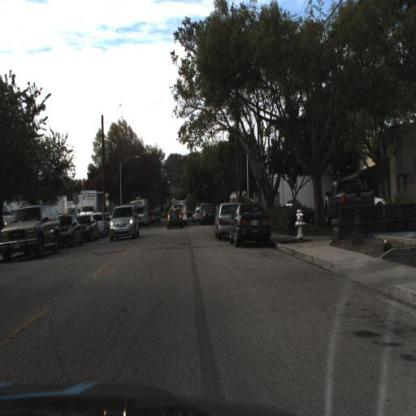car: (1, 198, 64, 266), (322, 176, 375, 235), (229, 198, 274, 255), (324, 178, 378, 225), (106, 199, 141, 249), (215, 199, 239, 244), (58, 210, 83, 251), (60, 211, 83, 251), (213, 201, 233, 246), (163, 204, 185, 235), (79, 214, 99, 245), (284, 195, 305, 218), (201, 204, 219, 225)
truck: (78, 178, 108, 223), (130, 198, 153, 227)
